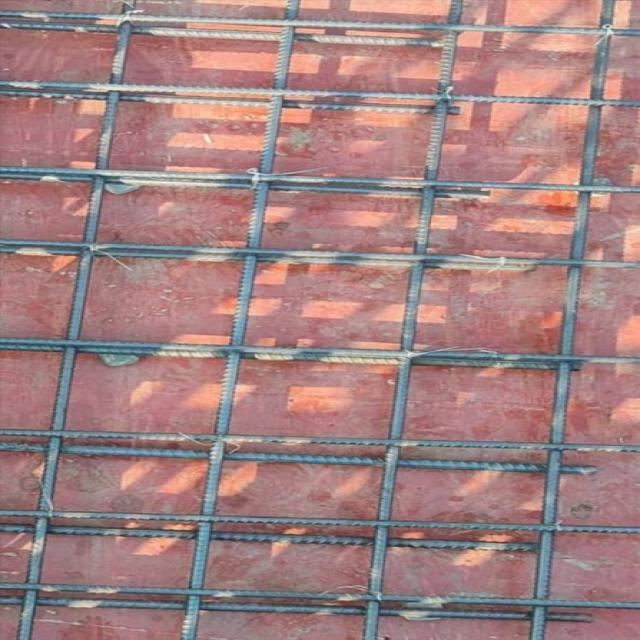ribbed bar: (12, 0, 141, 639), (178, 0, 303, 639), (354, 0, 467, 639), (522, 0, 621, 639), (0, 238, 637, 276), (0, 336, 637, 374), (0, 440, 600, 477), (0, 165, 637, 198), (0, 78, 637, 109), (0, 8, 637, 38), (0, 581, 637, 610), (0, 595, 598, 624), (0, 509, 637, 536), (0, 427, 637, 453), (0, 522, 534, 553), (0, 173, 485, 203), (0, 19, 441, 50), (1, 91, 466, 117)
